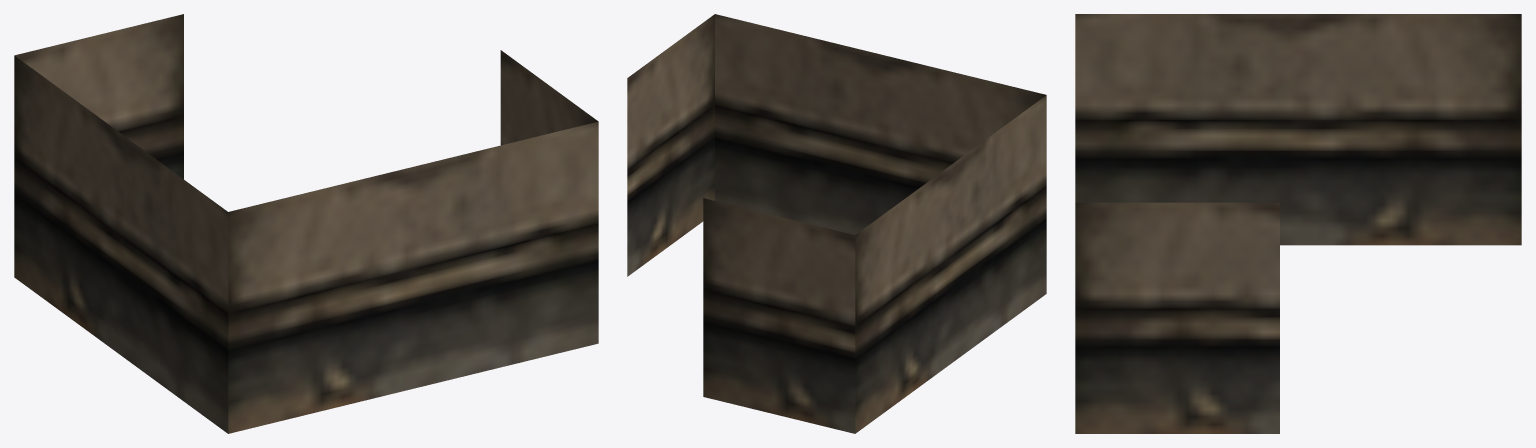
File: overlap_concrete_3.fbx
3 views of the same model, side by side, from view 1: azimuth 30°, elevation 25°; view 2: azimuth 150°, elevation 25°; view 3: azimuth 270°, elevation 25° (orthographic). The views are drawn at different scales.
Parts seen in each view (by area): view 1: overlap_concrete_3; view 2: overlap_concrete_3; view 3: overlap_concrete_3.
Part boxes in pixels (<box>): overlap_concrete_3: <box>14,14,598,433</box>; overlap_concrete_3: <box>627,14,1046,433</box>; overlap_concrete_3: <box>1075,14,1521,433</box>.
Bounding box in the file's own units: 0.9484 × 0.5431 × 0.9484.
